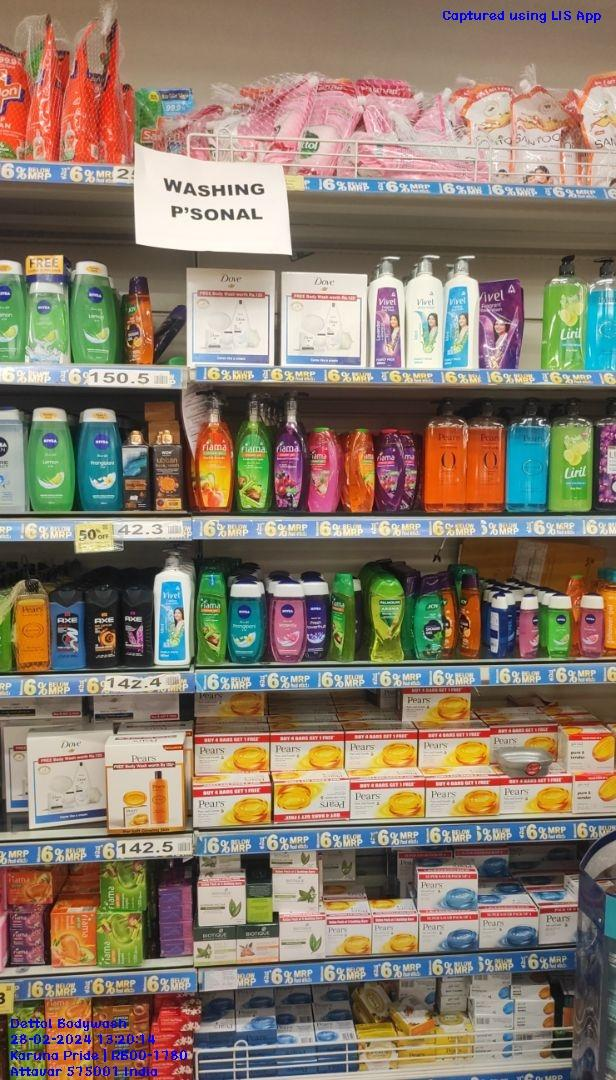Fiama_Shower_Gel_Patchouli_and_Macadamia_250ML: (307, 425, 338, 516)
Fiama_Shower_Gel_Peach_and_Avocado_250ML: (350, 428, 376, 515)
Joy_Shower_Gel_Mandarin_and_Lemongrass_250ML: (458, 571, 479, 658)
Joy_Shower_Gel_Mint_and_Eucalyptus_250ML: (124, 272, 151, 367), (415, 575, 444, 663)
Nivea_Shower_Gel_Frangipani_and_Oil_250ML: (77, 404, 122, 513), (228, 578, 265, 665)
Nivea_Shower_Gel_Fresh_Powerfruit_250ML: (305, 577, 331, 662)
Nivea_Shower_Gel_Lemon_and_Oil_250ML: (70, 258, 119, 365), (30, 404, 75, 513), (0, 256, 25, 364)
Nivea_Shower_Gel_Waterlily_and_Oil_250ML: (271, 578, 306, 664)
Palmolive_Aroma_Morning_Tonic_Shower_Gel_250ML: (374, 579, 403, 663)
